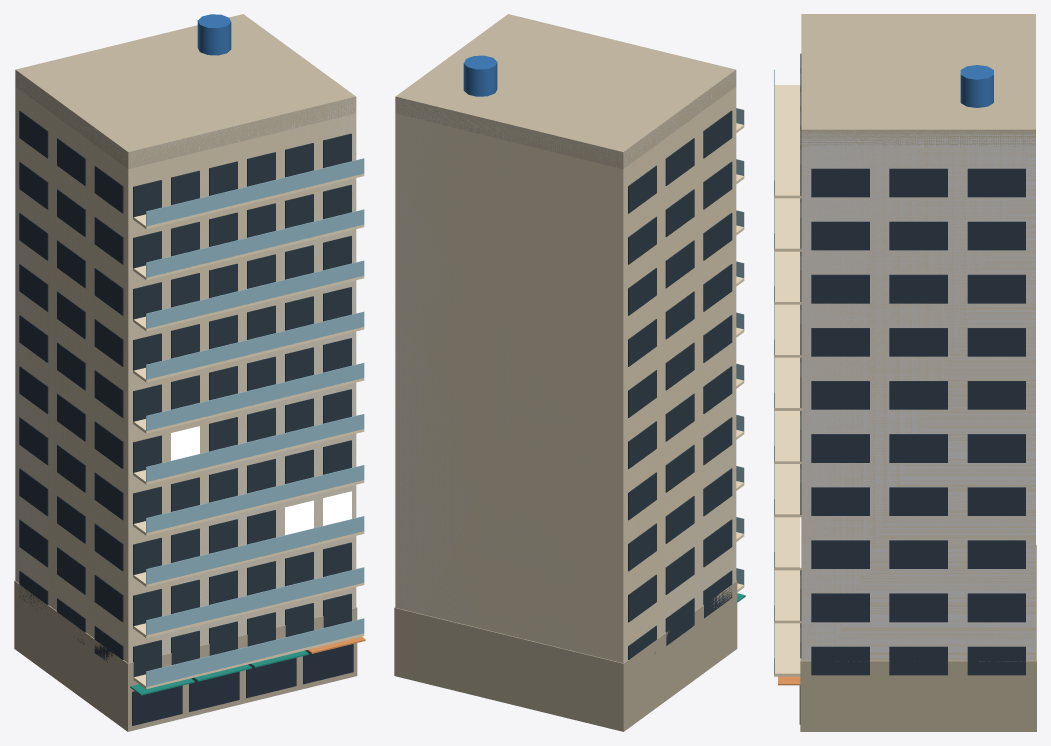
File: edificio_playa_crema.glb
3 renders of one model, left to right at view 1: azimuth 30°, elevation 25°; view 2: azimuth 150°, elevation 25°; view 3: azimuth 270°, elevation 25°, orthographic. The views are drawn at different scales.
Parts seen in each view (by area): view 1: edificio_playa_crema_Malla, COL_0; view 2: edificio_playa_crema_Malla, COL_0; view 3: edificio_playa_crema_Malla, COL_0.
Boxes of the visible parts, x1,y1,x2,y2 form: edificio_playa_crema_Malla: (14,14,365,731); COL_0: (15,71,356,660); edificio_playa_crema_Malla: (394,14,745,731); COL_0: (395,71,736,660); edificio_playa_crema_Malla: (774,14,1036,731); COL_0: (801,129,1035,660).
Bounding box in the file's own units: 14.1 × 35.6 × 13.45.
